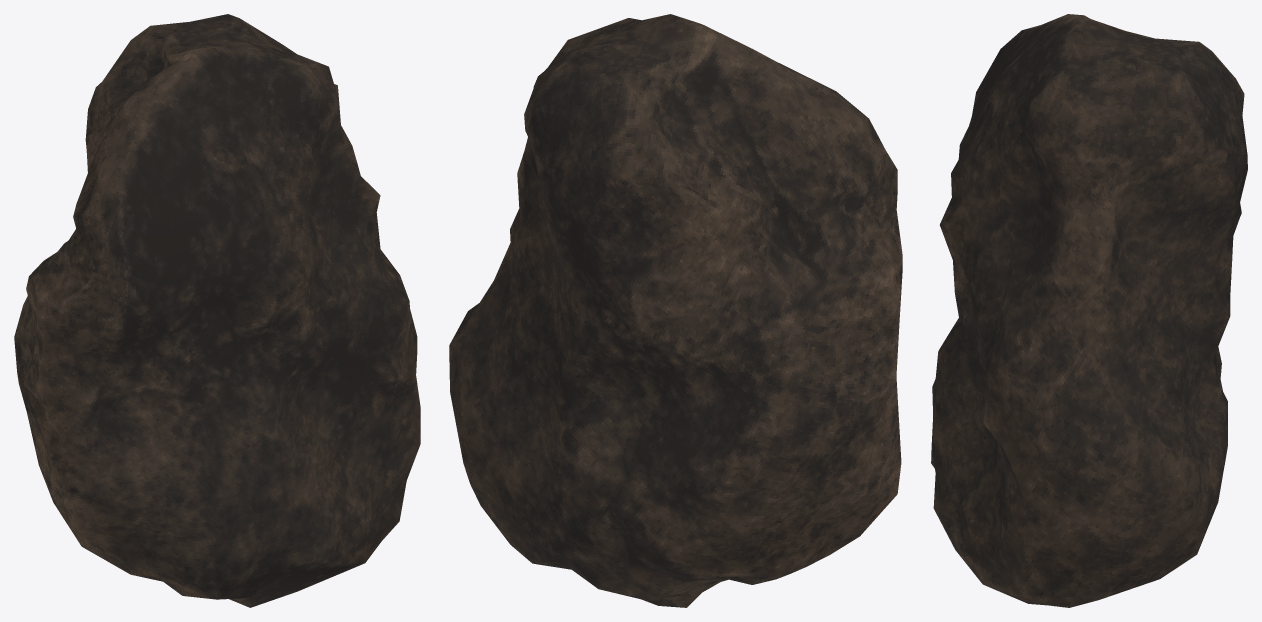
Rendered from SM_RP2_Rock_4m_10.002.glb.
The picture shows the model from 3 angles, left to right: view 1: azimuth 30°, elevation 25°; view 2: azimuth 150°, elevation 25°; view 3: azimuth 270°, elevation 25°; orthographic projection. The views are drawn at different scales.
Parts seen in each view (by area): view 1: SM_RP2_Rock_4m_10.002; view 2: SM_RP2_Rock_4m_10.002; view 3: SM_RP2_Rock_4m_10.002.
Part boxes in pixels (x1=…): SM_RP2_Rock_4m_10.002: x1=14, y1=14, x2=420, y2=607; SM_RP2_Rock_4m_10.002: x1=449, y1=14, x2=902, y2=607; SM_RP2_Rock_4m_10.002: x1=931, y1=14, x2=1247, y2=607.
Bounding box in the file's own units: 5.33 × 7.19 × 3.7.
1 material, 1 textured.
